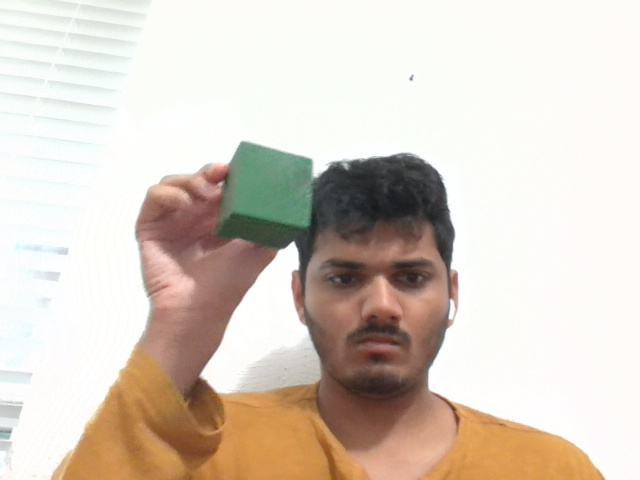GreenBlock: (215, 141, 315, 248)
